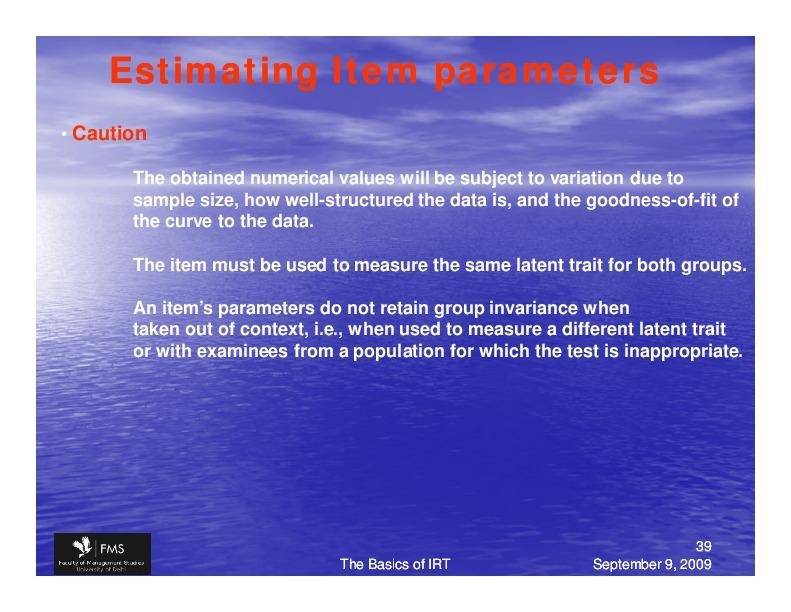paragraph: (117, 155, 759, 390)
subtitle: (53, 112, 166, 149)
title: (102, 44, 674, 100)
